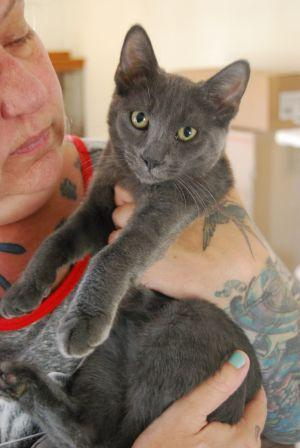rblue: (102, 16, 256, 200)
